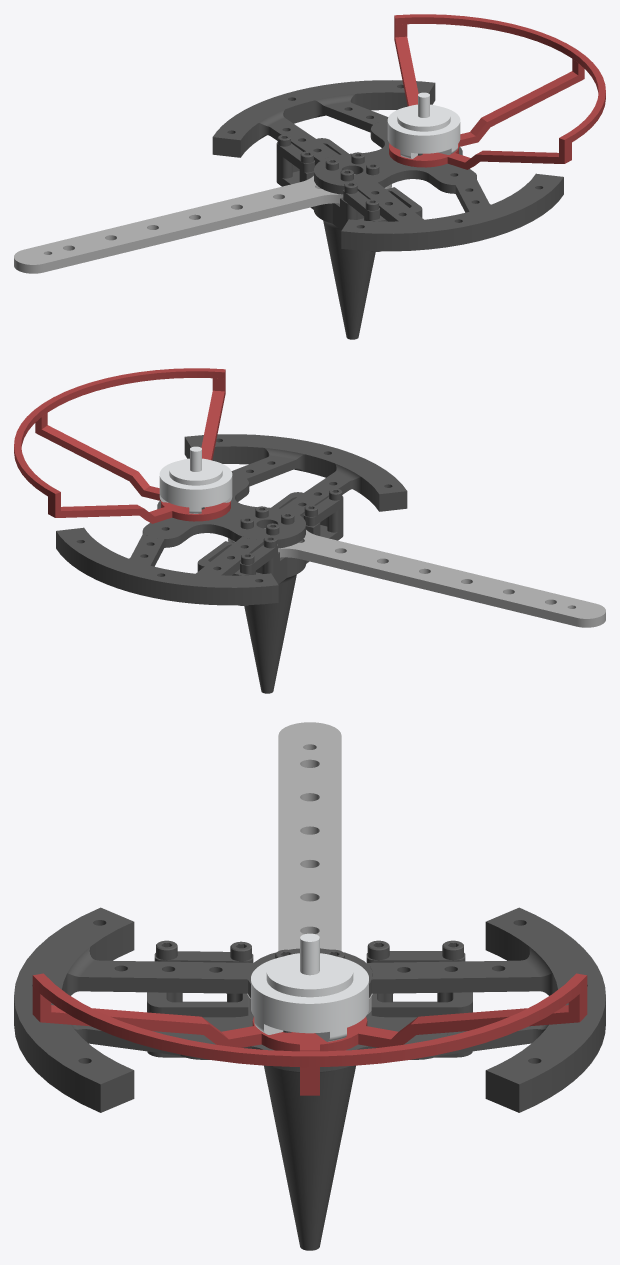
The model's file is arm.dae.
3 views of the same model, one above another, from view 1: azimuth 30°, elevation 25°; view 2: azimuth 150°, elevation 25°; view 3: azimuth 270°, elevation 25° (orthographic). The views are drawn at different scales.
Parts seen in each view (by area): view 1: Shape_IndexedFaceSet; view 2: Shape_IndexedFaceSet; view 3: Shape_IndexedFaceSet.
Part boxes in pixels (x1=…): Shape_IndexedFaceSet: x1=14, y1=14, x2=605, y2=339; Shape_IndexedFaceSet: x1=14, y1=368, x2=605, y2=693; Shape_IndexedFaceSet: x1=14, y1=722, x2=605, y2=1250.
Size of the model in its own units: 0.269 by 0.15 by 0.104.
